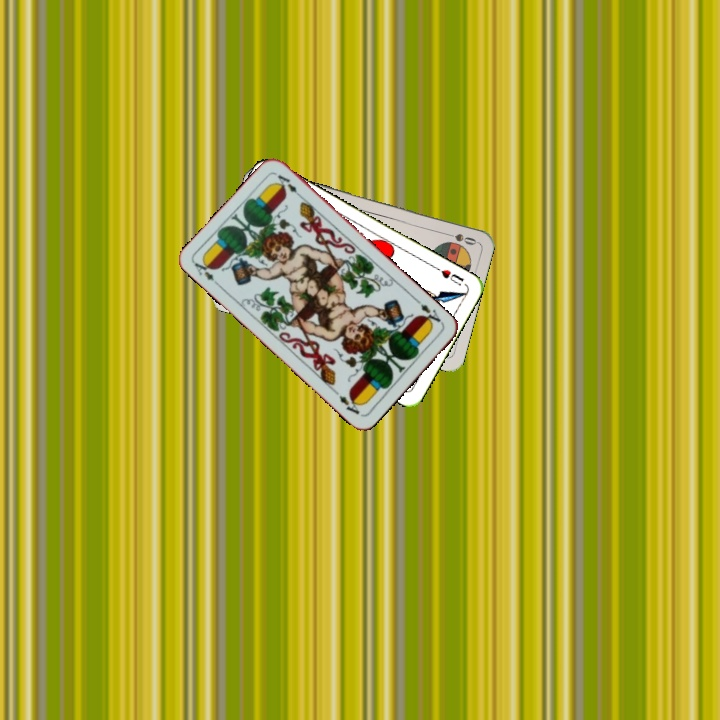EA: (190, 255, 223, 290), (416, 300, 446, 329)
HU: (431, 263, 467, 288)
SO: (439, 228, 479, 248)
